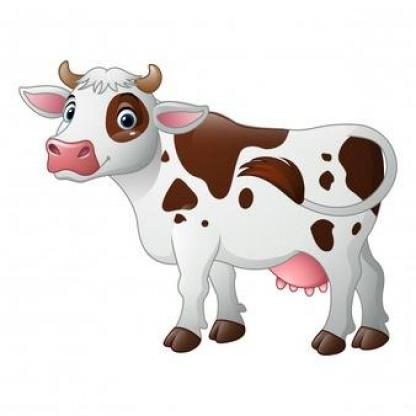cow: (19, 66, 398, 354)
